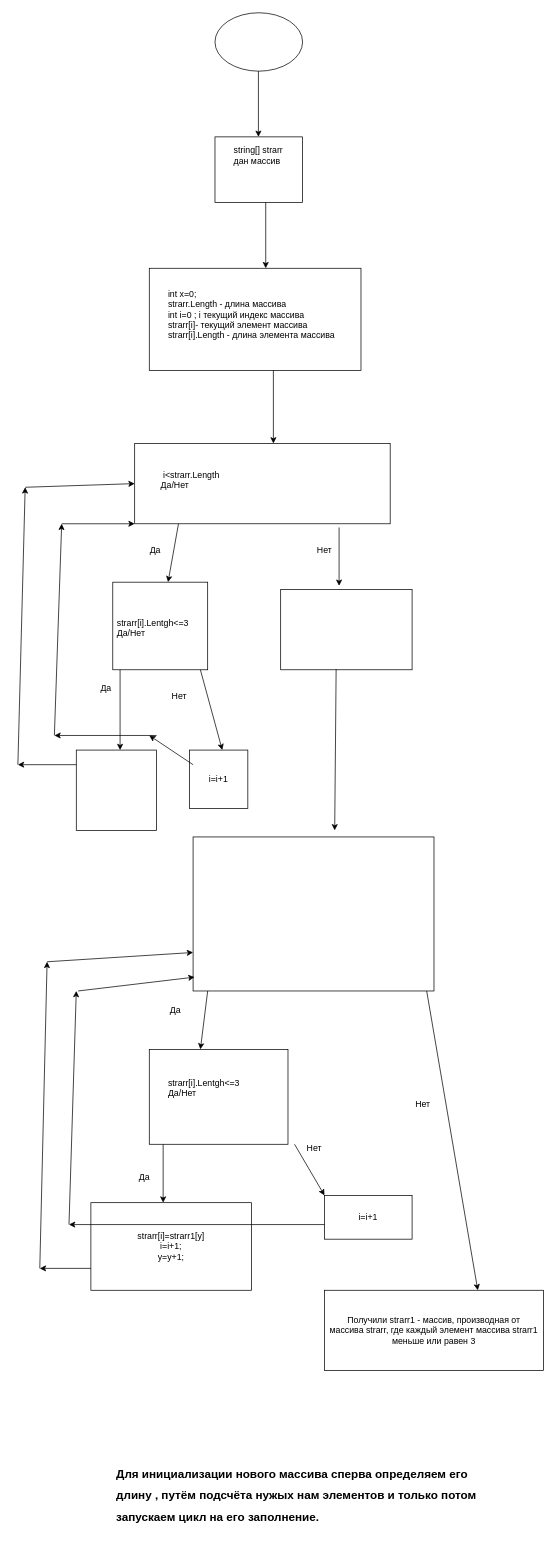
This 556x1559 diagram has some shape labels left out. Here are the shapes that lost their labels. From the top down, the box of each, then its label:
(214, 12, 303, 71): Start
(280, 589, 412, 670): string[]strarr1=new string[x] Определили новый массив длинной x int y=0
(76, 749, 157, 830): x=x+1 i=i+1
(192, 836, 434, 991): i<strarr.Lengh Да/Нет
